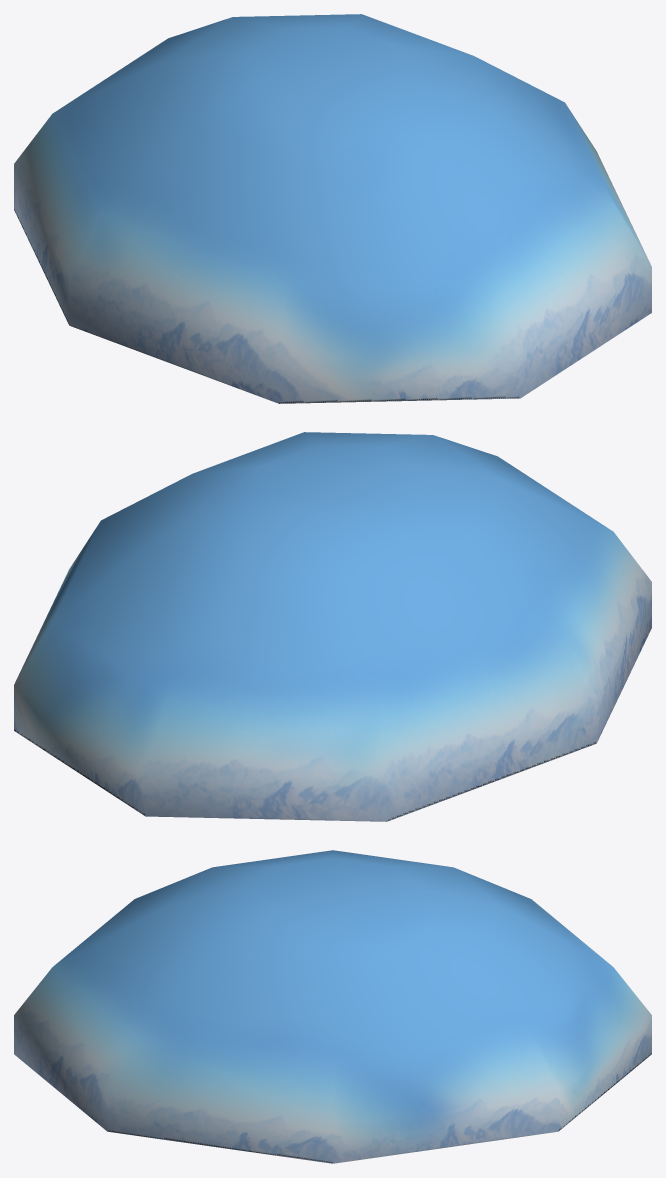
Rendered from Dome.fbx.
The picture shows the model from 3 angles, top to bottom: view 1: azimuth 30°, elevation 25°; view 2: azimuth 150°, elevation 25°; view 3: azimuth 270°, elevation 25°; orthographic projection. The views are drawn at different scales.
Parts seen in each view (by area): view 1: polySurface246; view 2: polySurface246; view 3: polySurface246.
Part boxes in pixels (x1=…): polySurface246: x1=14, y1=14, x2=651, y2=403; polySurface246: x1=14, y1=432, x2=651, y2=821; polySurface246: x1=14, y1=850, x2=651, y2=1163.
Size of the model in its own units: 1606 by 570 by 1977.
1 material, 1 textured.
